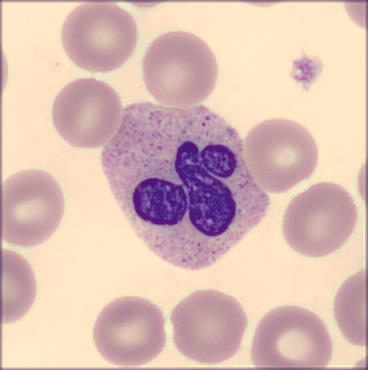WBC: (103, 103, 274, 268)
